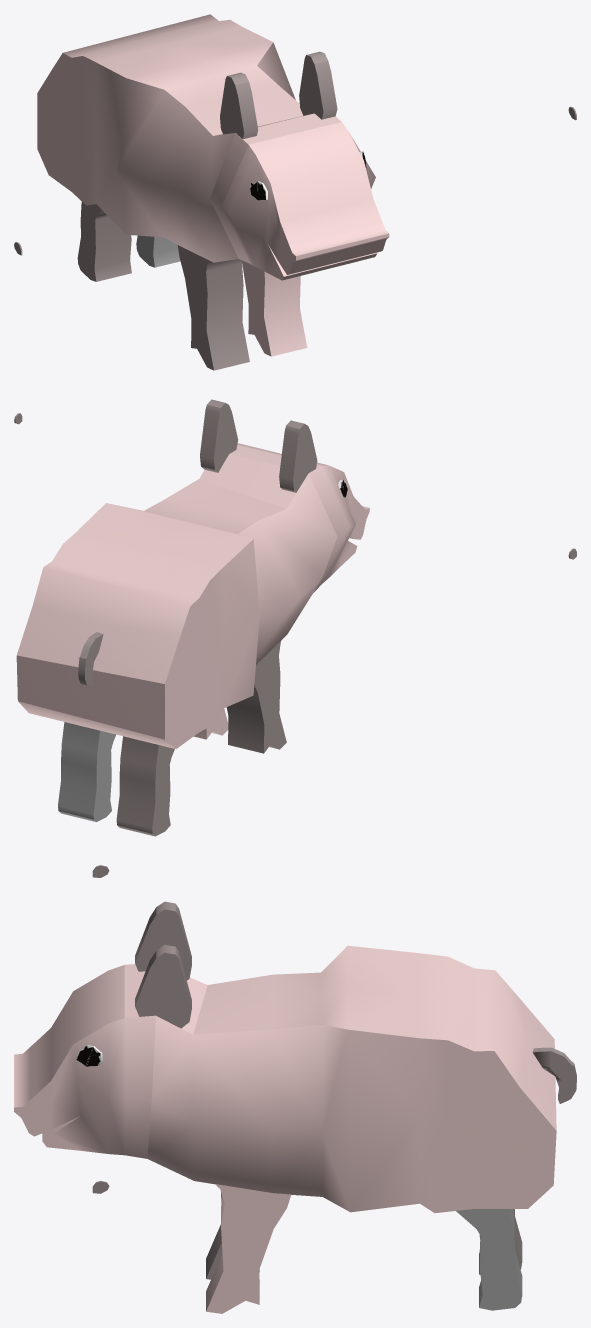
Rendered from pig_new.fbx.
3 views of the same model, one above another, from view 1: azimuth 30°, elevation 25°; view 2: azimuth 150°, elevation 25°; view 3: azimuth 270°, elevation 25° (orthographic). The views are drawn at different scales.
Visible parts, largest first — view 1: body, pCube3, pCube2, pCube5, pCube7, pCube8, pCube4; view 2: body, pCube5, pCube4, pCube3, pCube7, pCube8, pCube6; view 3: body, pCube2, pCube4, pCube7, pCube8, pCube6.
Boxes of the visible parts, left/top/right/bottom form: body: left=37, top=14, right=389, bottom=280; pCube3: left=177, top=245, right=249, bottom=370; pCube2: left=242, top=260, right=307, bottom=356; pCube5: left=77, top=201, right=131, bottom=281; pCube7: left=299, top=51, right=337, bottom=119; pCube8: left=220, top=72, right=258, bottom=139; pCube4: left=136, top=235, right=180, bottom=267; body: left=16, top=443, right=369, bottom=748; pCube5: left=116, top=736, right=174, bottom=836; pCube4: left=58, top=722, right=115, bottom=821; pCube3: left=226, top=641, right=286, bottom=753; pCube7: left=200, top=399, right=238, bottom=472; pCube8: left=279, top=420, right=317, bottom=492; pCube6: left=78, top=632, right=103, bottom=686; body: left=14, top=945, right=556, bottom=1213; pCube2: left=206, top=1184, right=291, bottom=1313; pCube4: left=456, top=1209, right=522, bottom=1310; pCube7: left=135, top=945, right=191, bottom=1028; pCube8: left=135, top=901, right=191, bottom=980; pCube6: left=532, top=1047, right=576, bottom=1103.
Bounding box in the file's own units: 10.14 × 5.4 × 7.63.
